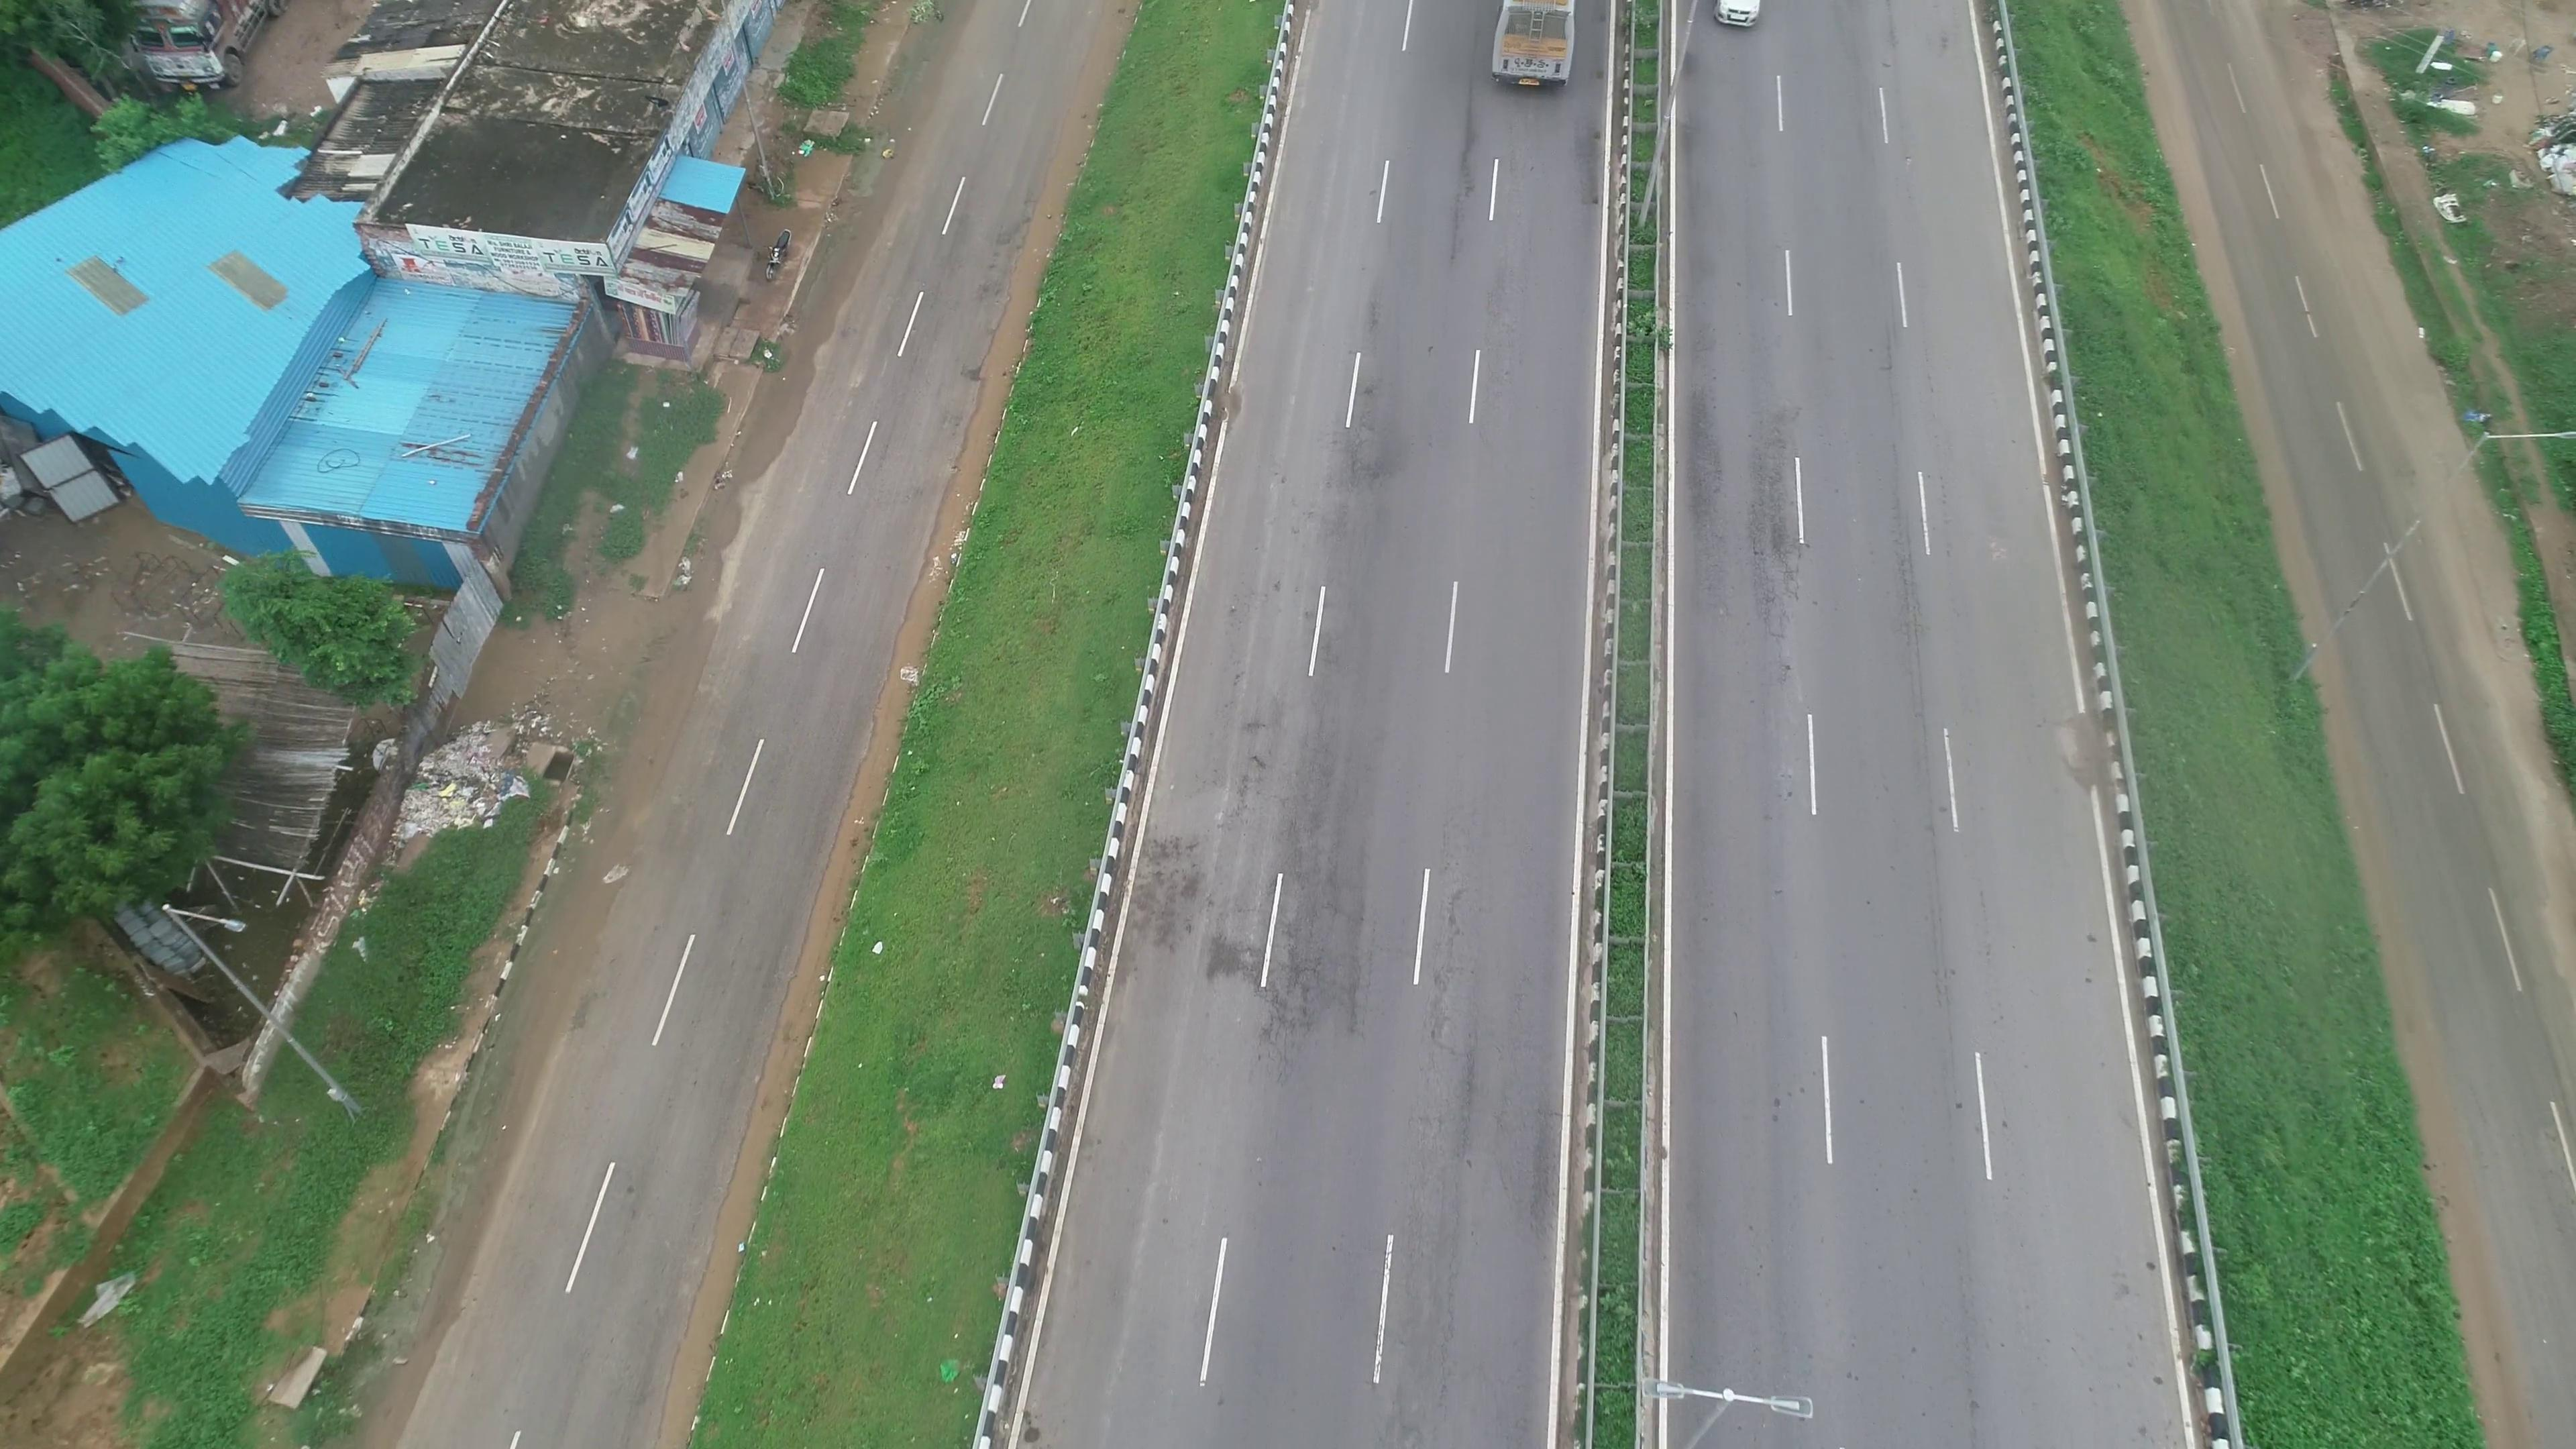Longitudinal_cracks: (1877, 471, 1946, 747), (1440, 53, 1484, 265)
Ravelling: (1746, 419, 1817, 685)
